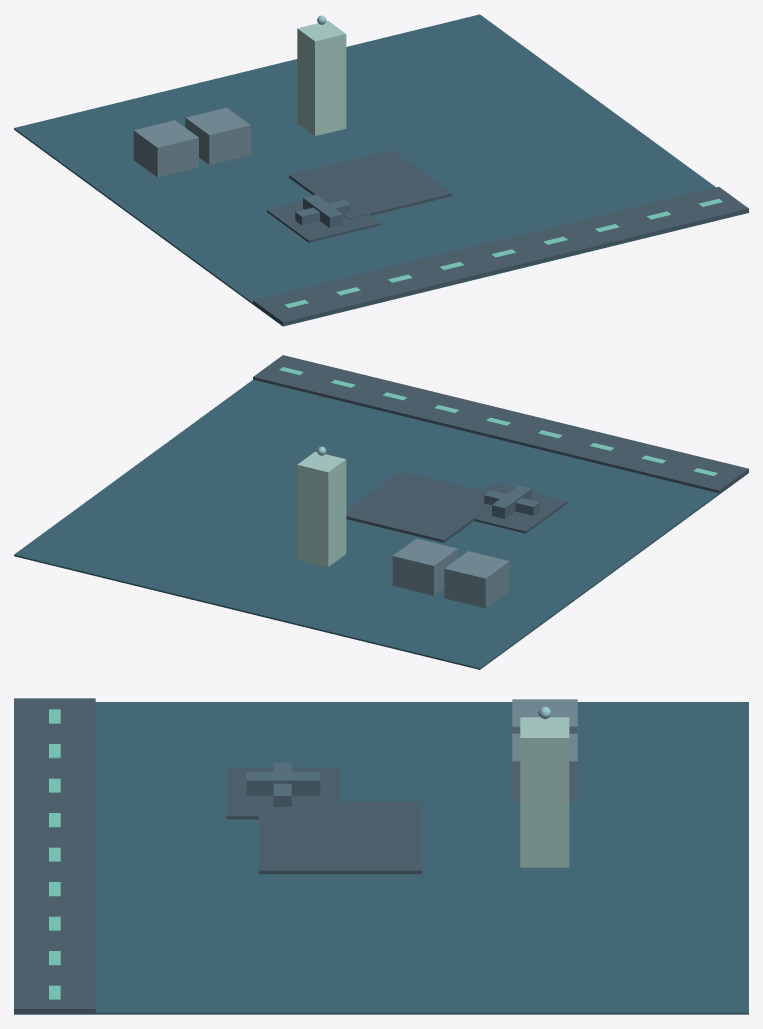
File: stage_05.glb
3 views of the same model, one above another, from view 1: azimuth 30°, elevation 25°; view 2: azimuth 150°, elevation 25°; view 3: azimuth 270°, elevation 25° (orthographic). The views are drawn at different scales.
Parts seen in each view (by area): view 1: geometry_0; view 2: geometry_0; view 3: geometry_0.
Part boxes in pixels (bbox=[...]): geometry_0: bbox=[14, 14, 748, 326]; geometry_0: bbox=[14, 355, 748, 669]; geometry_0: bbox=[14, 698, 748, 1014].
Bounding box in the file's own units: 9 × 2.06 × 9.
